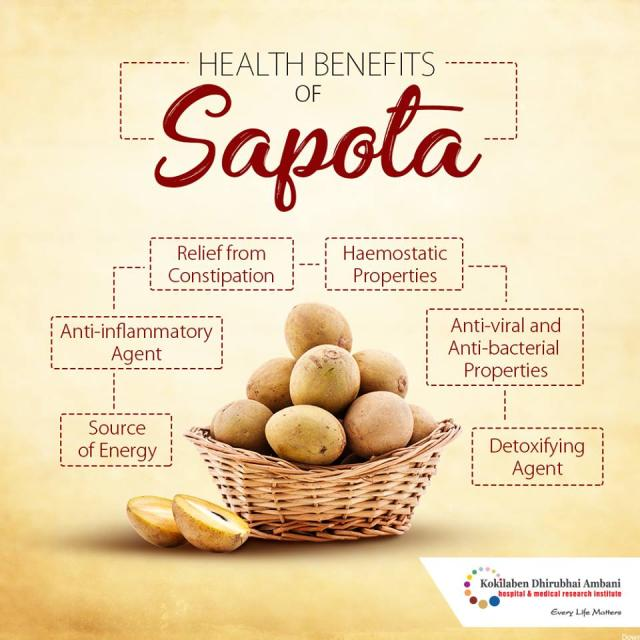chikkoo: (120, 480, 261, 557), (272, 296, 363, 367), (337, 389, 424, 456), (263, 395, 345, 461), (204, 389, 285, 455), (289, 344, 362, 407), (352, 339, 419, 400), (244, 353, 313, 407)
